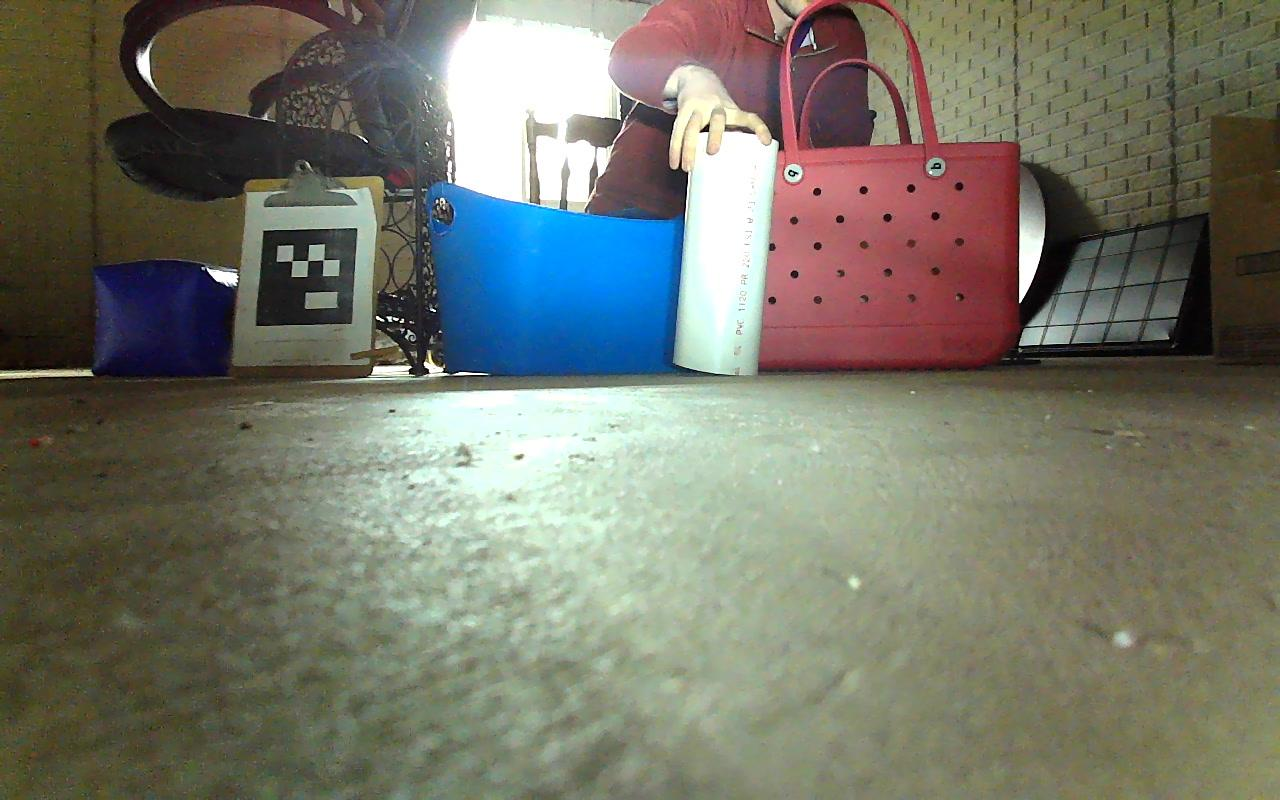coral: (673, 128, 776, 375)
